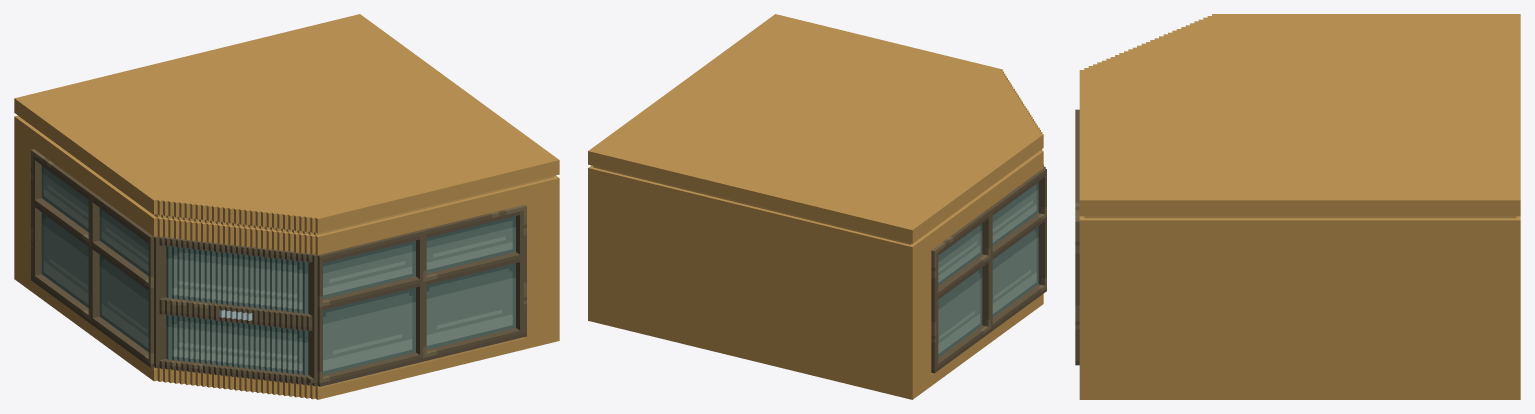
The model's file is Voxel City-3-Building Angle_Yellow.obj.
The picture shows the model from 3 angles, left to right: view 1: azimuth 30°, elevation 25°; view 2: azimuth 150°, elevation 25°; view 3: azimuth 270°, elevation 25°; orthographic projection. The views are drawn at different scales.
Parts seen in each view (by area): view 1: Building Angle_Yellow; view 2: Building Angle_Yellow; view 3: Building Angle_Yellow.
Part boxes in pixels (bbox=[...]): Building Angle_Yellow: bbox=[14, 14, 559, 399]; Building Angle_Yellow: bbox=[588, 14, 1046, 399]; Building Angle_Yellow: bbox=[1075, 14, 1520, 399].
Size of the model in its own units: 5.05 by 2.5 by 5.05.
1 material, 1 textured.
